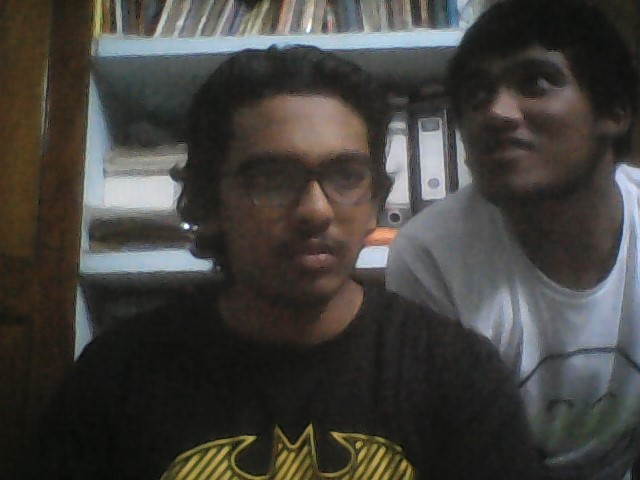person: (31, 47, 527, 480), (391, 5, 640, 275)
